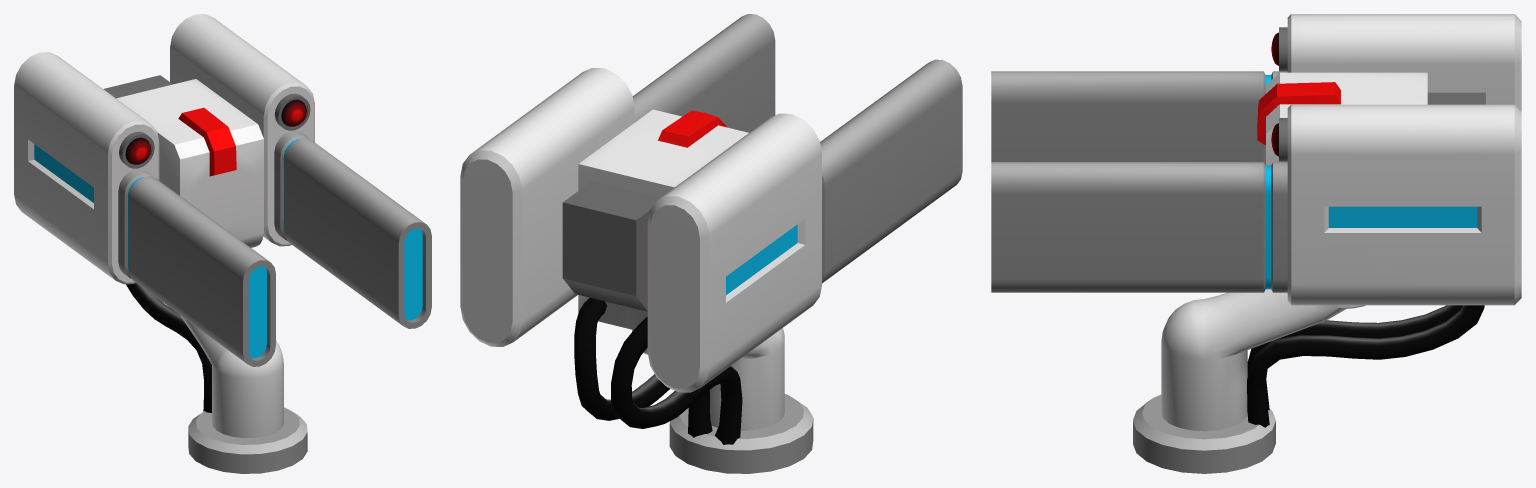
Rendered from Turret001.fbx.
3 views of the same model, side by side, from view 1: azimuth 30°, elevation 25°; view 2: azimuth 150°, elevation 25°; view 3: azimuth 270°, elevation 25° (orthographic). The views are drawn at different scales.
Parts seen in each view (by area): view 1: Gun, GunBace, Body, Neck, Bace, Sencer, Tube; view 2: GunBace, Gun, Body, Tube, Bace, Neck; view 3: Gun, GunBace, Neck, Tube, Body, Bace, Sencer.
Part boxes in pixels (box(x1,y1,x2,y2)): Gun: box(118, 131, 431, 366); GunBace: box(14, 14, 314, 284); Body: box(103, 75, 263, 247); Neck: box(180, 315, 283, 438); Bace: box(188, 407, 307, 473); Sencer: box(119, 93, 310, 168); Tube: box(126, 283, 211, 412); GunBace: box(460, 68, 821, 392); Gun: box(632, 14, 962, 283); Body: box(562, 109, 748, 329); Tube: box(574, 298, 742, 444); Bace: box(669, 394, 813, 473); Neck: box(632, 328, 784, 430); Gun: box(991, 71, 1287, 292); GunBace: box(1287, 14, 1521, 305); Neck: box(1161, 289, 1365, 431); Tube: box(1247, 305, 1484, 427); Body: box(1257, 72, 1485, 165); Bace: box(1133, 394, 1275, 473); Sencer: box(1271, 27, 1287, 161).
Size of the model in its own units: 3.87 by 5.71 by 7.2.
